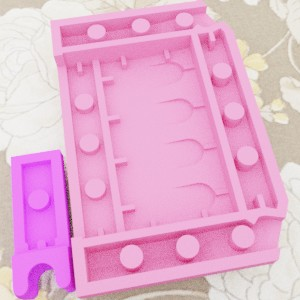lego: (49, 0, 288, 299), (10, 148, 77, 299)
